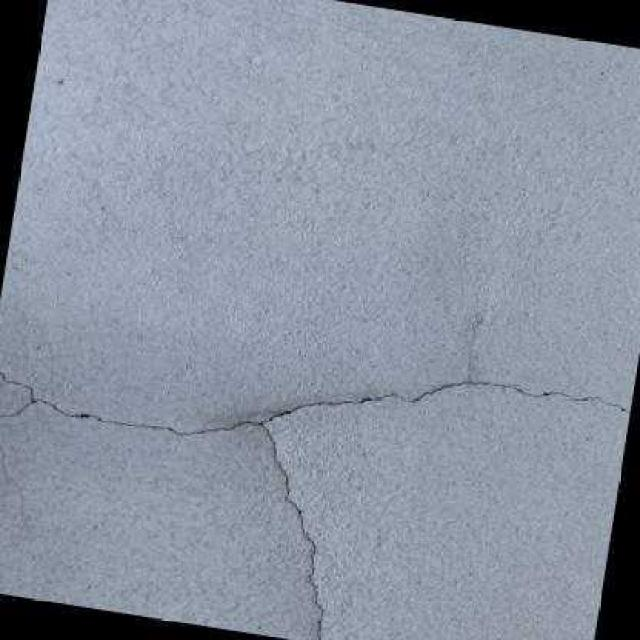D00: (0, 369, 630, 640)
